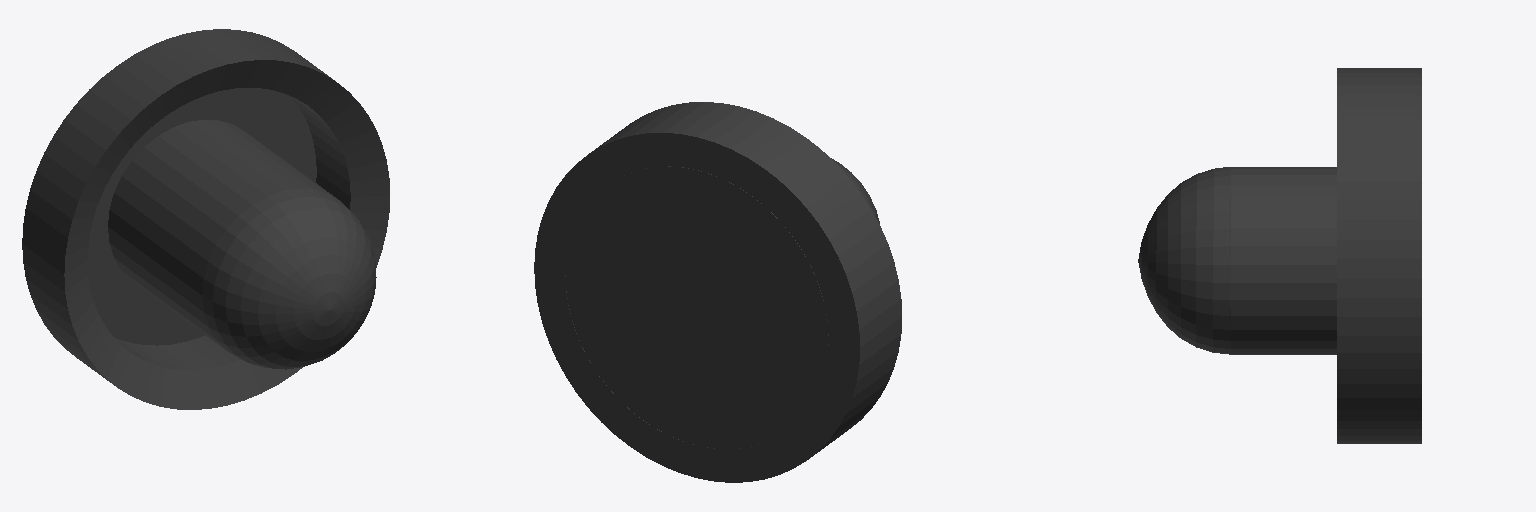
Rendered from maillet.obj.
The picture shows the model from 3 angles: view 1: azimuth 30°, elevation 25°; view 2: azimuth 150°, elevation 25°; view 3: azimuth 270°, elevation 25°; orthographic projection.
Parts seen in each view (by area): view 1: Cylinder.001, Cylinder; view 2: Cylinder.001; view 3: Cylinder, Cylinder.001.
Part boxes in pixels (left/top/right/bottom): Cylinder.001: left=22, top=29, right=389, bottom=409; Cylinder: left=108, top=119, right=376, bottom=369; Cylinder.001: left=534, top=102, right=901, bottom=482; Cylinder: left=1138, top=167, right=1336, bottom=354; Cylinder.001: left=1337, top=68, right=1421, bottom=443.
Size of the model in its own units: 20 by 20 by 15.07.